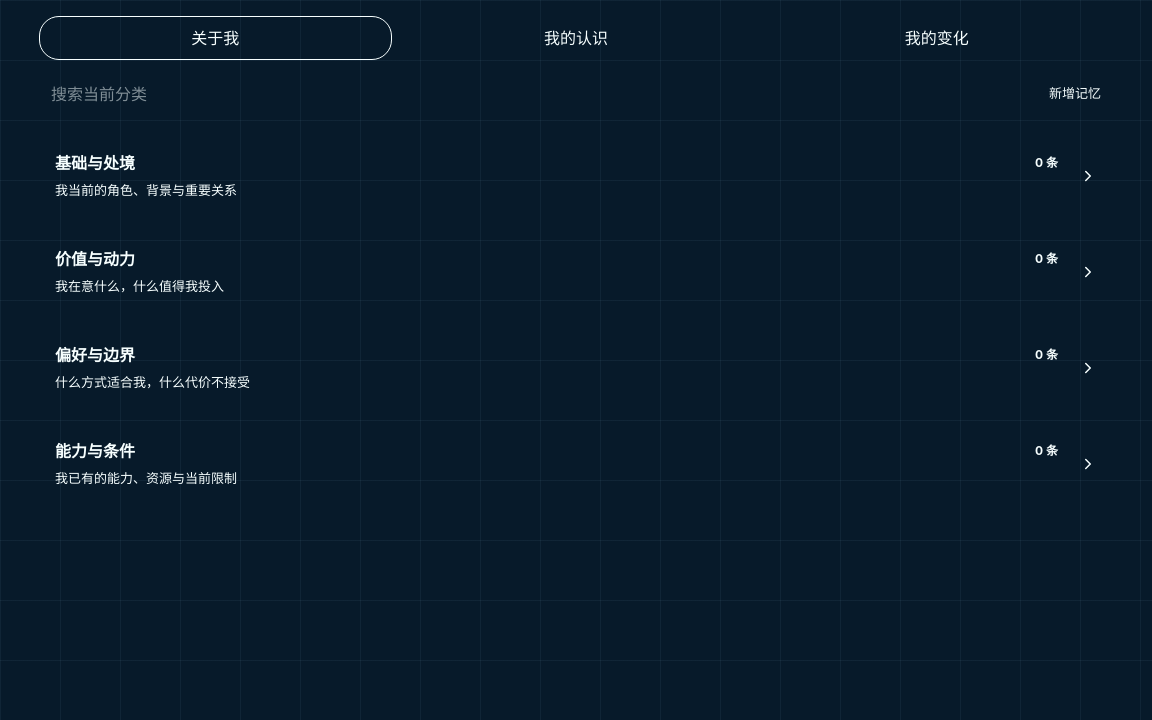
shows editable patterns without mirroring principles or future plans
Click the button "我的认识" at (576, 38), box [400, 16, 752, 60]
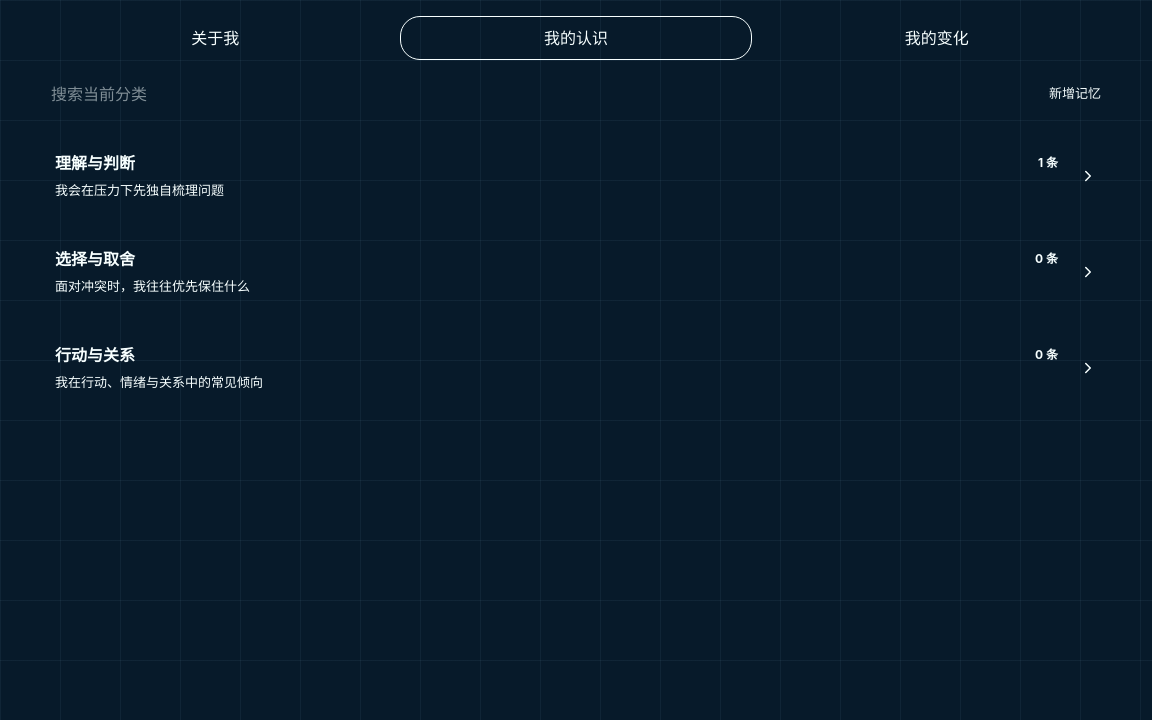
Click the button "理解与判断 1 条 我会在压力下先独自梳理问题" at (95, 163), box [39, 132, 1113, 220]
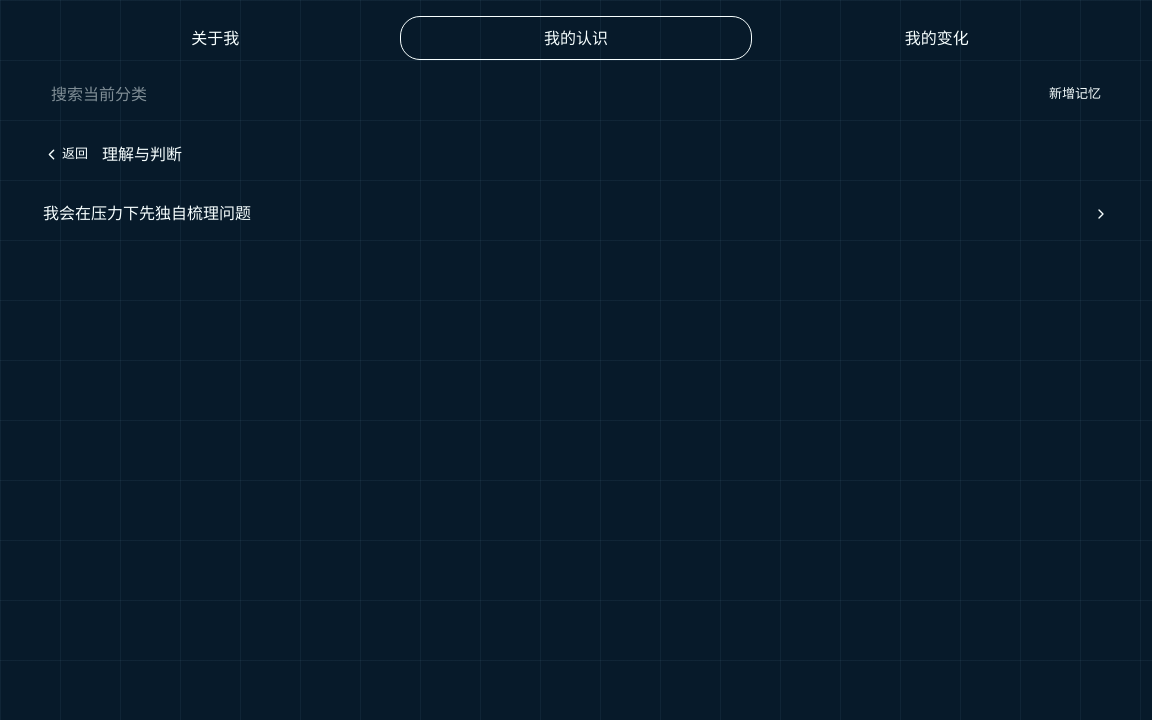
Check: the button "我会在压力下先独自梳理问题" is shown
Click the button "我会在压力下先独自梳理问题" at (147, 213), box [39, 180, 1113, 247]
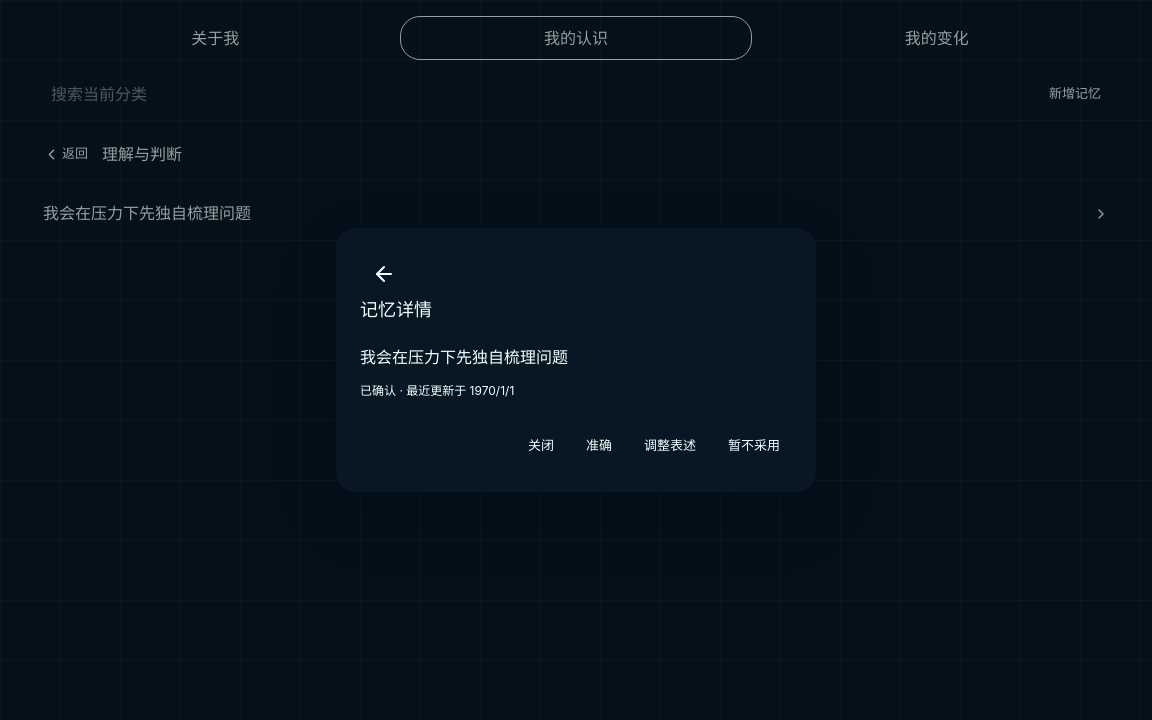
Check: the button "调整表述" is shown, box [632, 424, 708, 468]
Click the button "关闭" at (541, 446), box [516, 424, 566, 468]
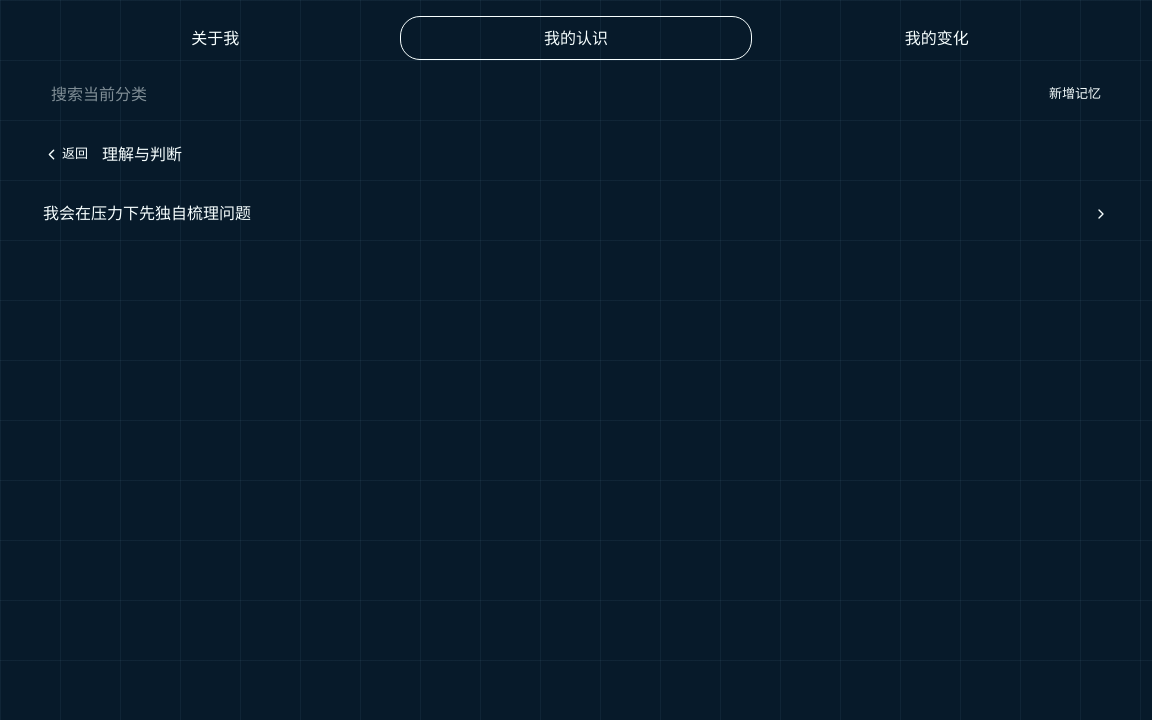
Click the button "我的变化" at (937, 38), box [760, 16, 1113, 60]
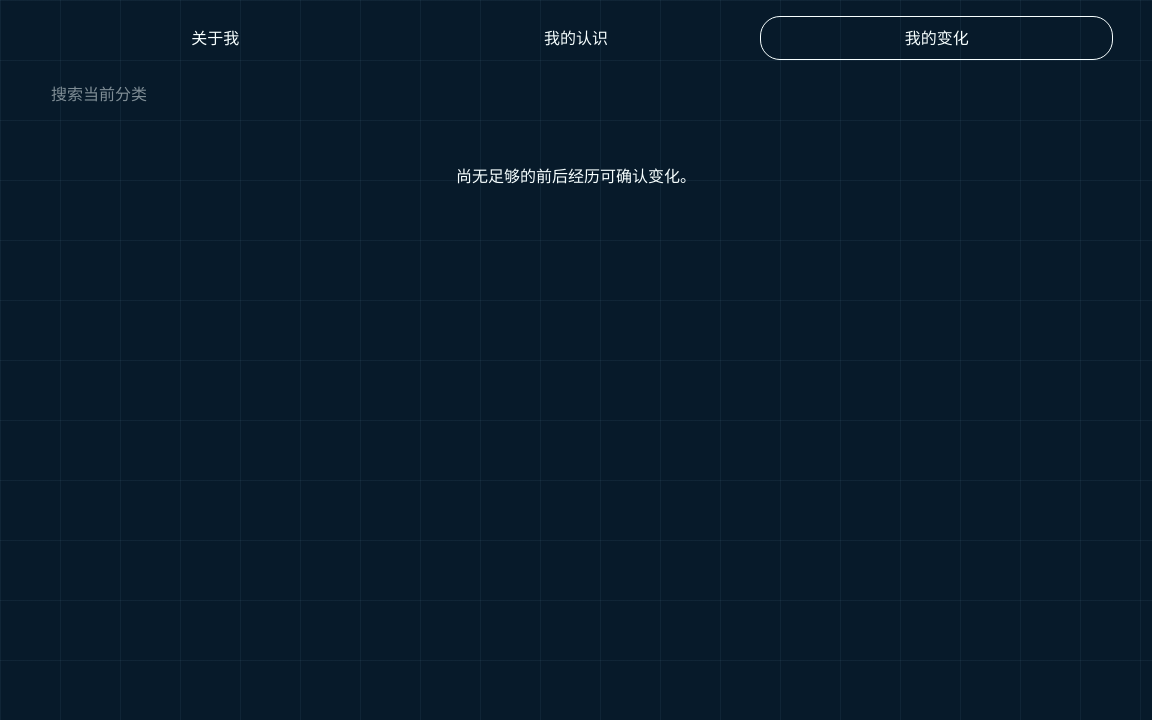
Check: the text "尚无足够的前后经历可确认变化。" is shown, box [456, 166, 696, 186]
Check: the button "我会在压力下先独自梳理问题" is gone
